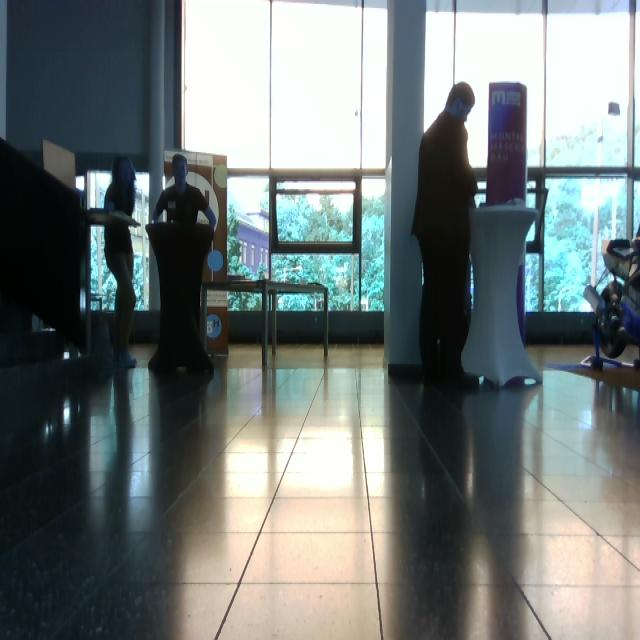light bulb: (207, 250, 224, 272), (608, 101, 621, 116)
person: (411, 82, 480, 389), (148, 154, 217, 376), (103, 156, 142, 369)
table: (460, 201, 546, 393), (262, 278, 332, 368)
tiled floor: (2, 340, 639, 638)
window: (181, 1, 390, 316), (87, 169, 151, 312)
